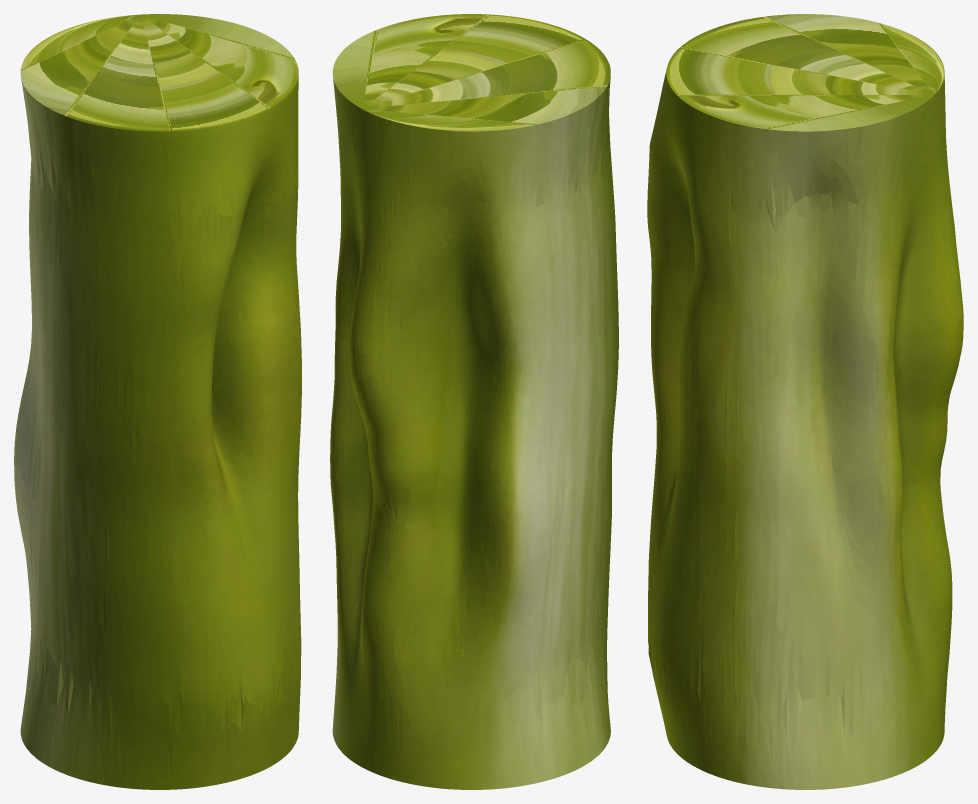
The model's file is stem-b.glb.
3 renders of one model, left to right at view 1: azimuth 30°, elevation 25°; view 2: azimuth 150°, elevation 25°; view 3: azimuth 270°, elevation 25°, orthographic.
Visible parts, largest first — view 1: CliviaStem_B; view 2: CliviaStem_B; view 3: CliviaStem_B.
Part boxes in pixels (box(x1,y1,x2,y2)): CliviaStem_B: box(14, 14, 301, 789); CliviaStem_B: box(330, 14, 618, 789); CliviaStem_B: box(647, 14, 963, 789).
Size of the model in its own units: 0.0459 by 0.12 by 0.0523.
1 material, 1 textured.
